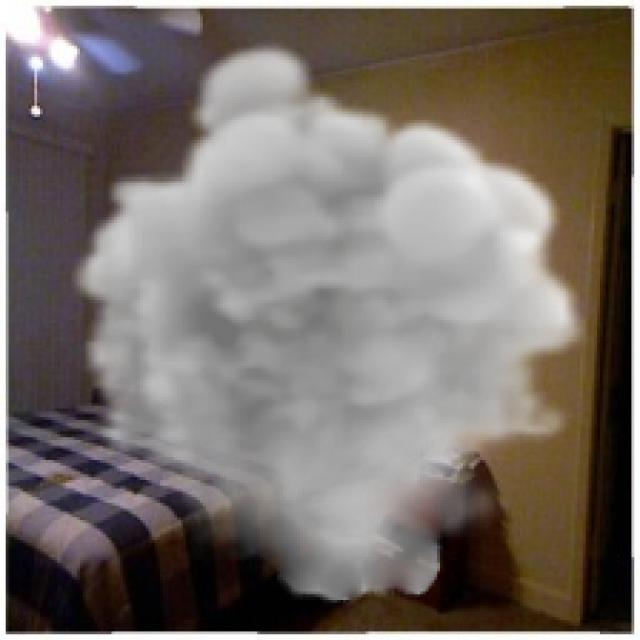smoke: (71, 37, 588, 606)
